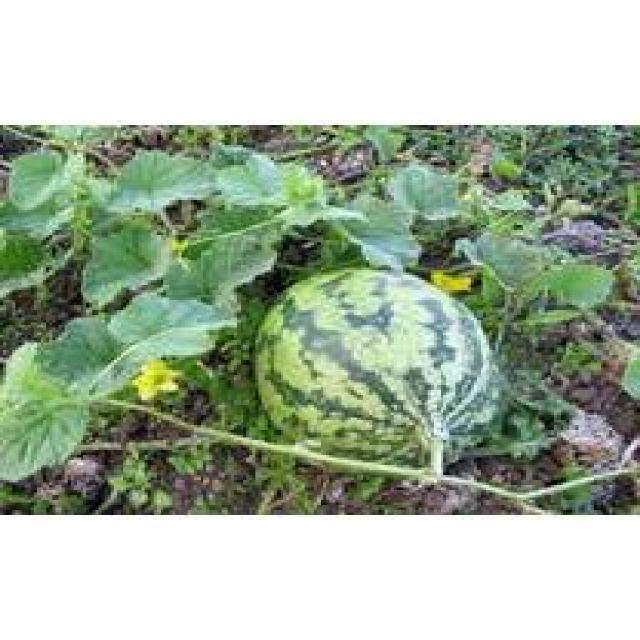watermelon: (253, 260, 500, 478)
